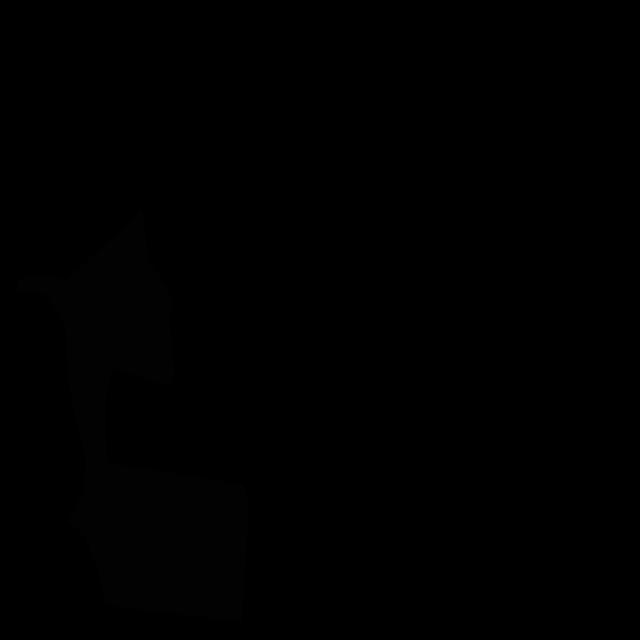cardboard: (16, 209, 175, 463), (67, 461, 249, 622)
